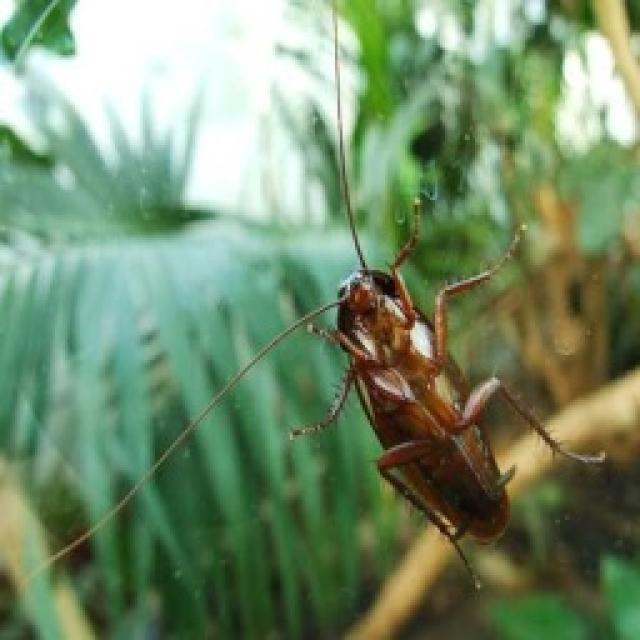cockroach: (332, 266, 517, 550)
